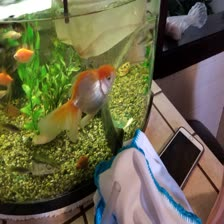Cuezo: (38, 59, 118, 142)
Guppy: (12, 38, 38, 63)
